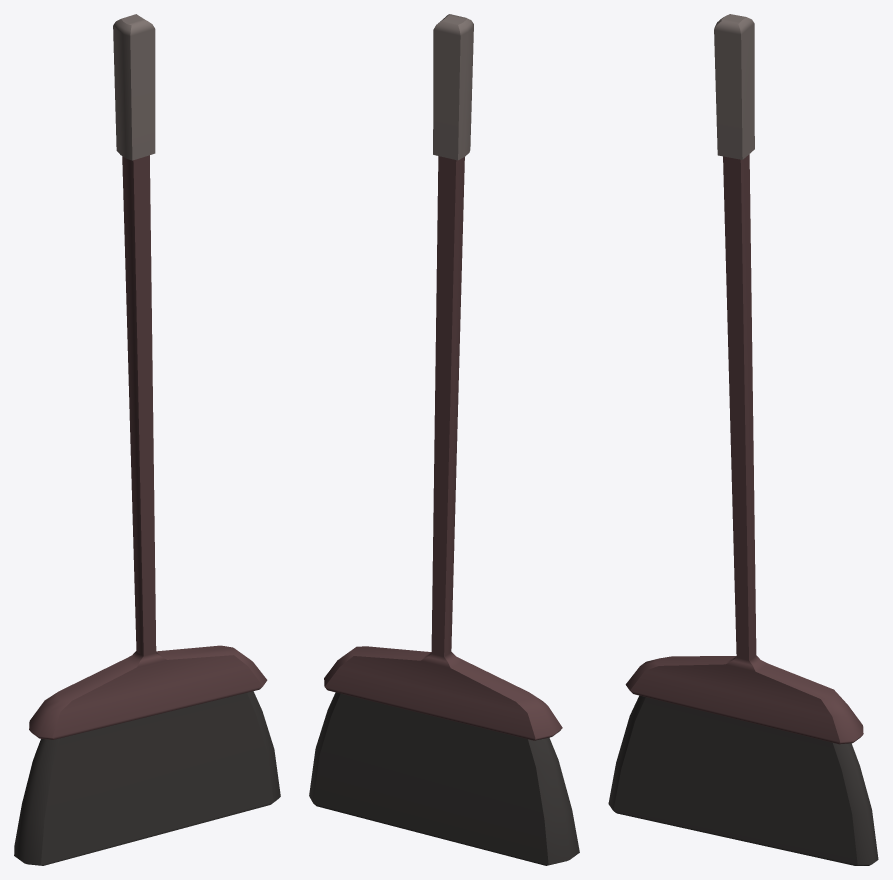
The model's file is Broom.fbx.
3 renders of one model, left to right at view 1: azimuth 30°, elevation 25°; view 2: azimuth 150°, elevation 25°; view 3: azimuth 330°, elevation 25°, orthographic.
Visible parts, largest first — view 1: Broom; view 2: Broom; view 3: Broom.
Boxes of the visible parts, bbox=[...] form: Broom: bbox=[14, 14, 280, 865]; Broom: bbox=[309, 14, 579, 865]; Broom: bbox=[608, 14, 878, 865].
Bounding box in the file's own units: 67.39 × 201 × 11.86.
